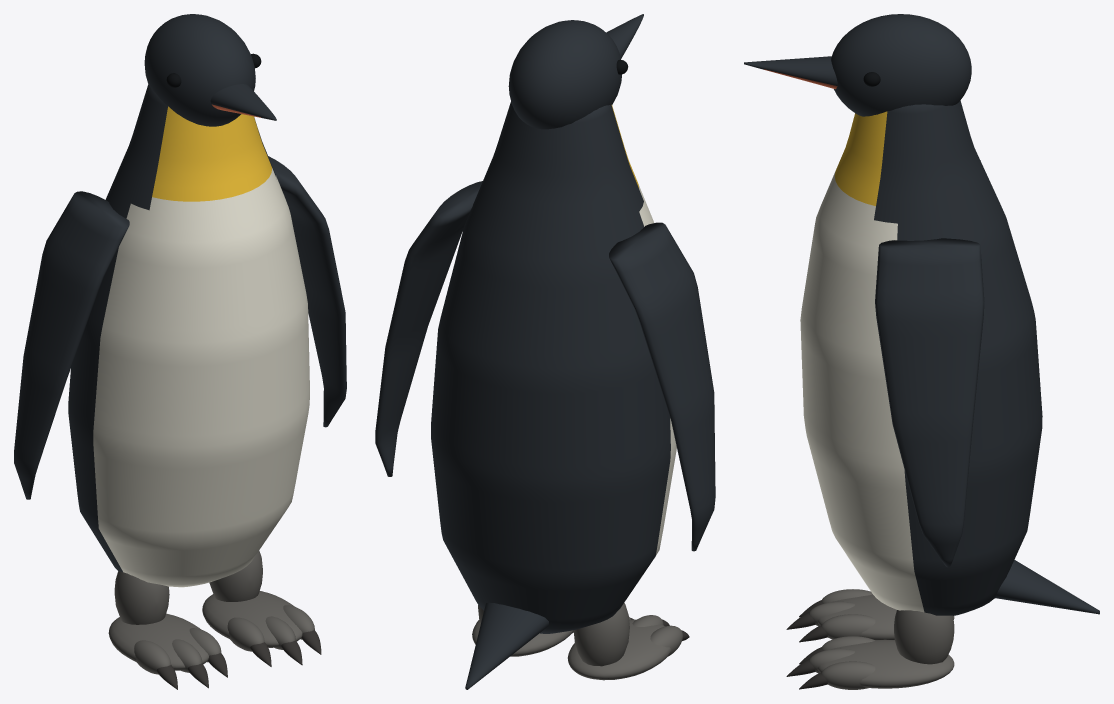
The picture shows the model from 3 angles, left to right: view 1: azimuth 30°, elevation 25°; view 2: azimuth 150°, elevation 25°; view 3: azimuth 270°, elevation 25°; orthographic projection. The views are drawn at different scales.
Visible parts, largest first — view 1: Body_closed_belly_back_neck, Left_closed_paddle_flipper, Head_closed_crown, Right_closed_paddle_flipper, Left_closed_webbed_foot, Right_closed_webbed_foot, Left_short_ankle, Right_short_ankle, Beak_closed_tapered_bill, Left_toe_-1, Right_toe_-1, Right_toe_0 (+1 smaller); view 2: Body_closed_belly_back_neck, Left_closed_paddle_flipper, Right_closed_paddle_flipper, Head_closed_crown, Tail_closed_short_wedge, Left_closed_webbed_foot, Left_short_ankle, Right_closed_webbed_foot, Beak_closed_tapered_bill, Left_toe_-1; view 3: Body_closed_belly_back_neck, Right_closed_paddle_flipper, Head_closed_crown, Right_closed_webbed_foot, Right_short_ankle, Tail_closed_short_wedge, Beak_closed_tapered_bill, Left_closed_webbed_foot, Right_toe_1, Left_toe_1.
Boxes of the visible parts, x1,y1,x2,y2 form: Body_closed_belly_back_neck: (68,84,309,587); Left_closed_paddle_flipper: (14,191,129,499); Head_closed_crown: (144,14,255,126); Right_closed_paddle_flipper: (268,156,346,427); Left_closed_webbed_foot: (108,613,208,670); Right_closed_webbed_foot: (202,591,302,647); Left_short_ankle: (114,571,169,624); Right_short_ankle: (209,550,262,601); Beak_closed_tapered_bill: (210,84,276,120); Left_toe_-1: (134,640,171,674); Right_toe_-1: (227,617,264,651); Right_toe_0: (265,616,295,649); Body_closed_belly_back_neck: (431,101,676,633); Left_closed_paddle_flipper: (609,222,715,551); Right_closed_paddle_flipper: (375,181,482,476); Head_closed_crown: (508,20,621,129); Tail_closed_short_wedge: (465,602,548,689); Left_closed_webbed_foot: (567,619,671,680); Left_short_ankle: (573,603,629,666); Right_closed_webbed_foot: (472,620,573,656); Beak_closed_tapered_bill: (606,14,643,58); Left_toe_-1: (650,625,682,656); Body_closed_belly_back_neck: (800,100,1042,615); Right_closed_paddle_flipper: (875,238,984,567); Head_closed_crown: (831,14,971,116); Right_closed_webbed_foot: (817,639,954,688); Right_short_ankle: (894,610,954,664); Tail_closed_short_wedge: (995,560,1099,614); Beak_closed_tapered_bill: (744,56,837,89); Left_closed_webbed_foot: (817,594,954,639); Right_toe_1: (821,661,875,689); Left_toe_1: (821,614,875,639).
Size of the model in its own units: 0.617 by 1.13 by 0.575.
